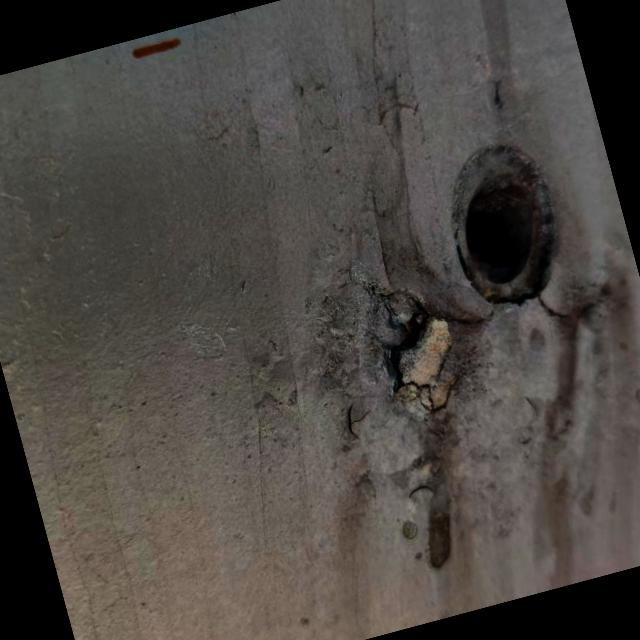crack: (353, 260, 512, 432)
